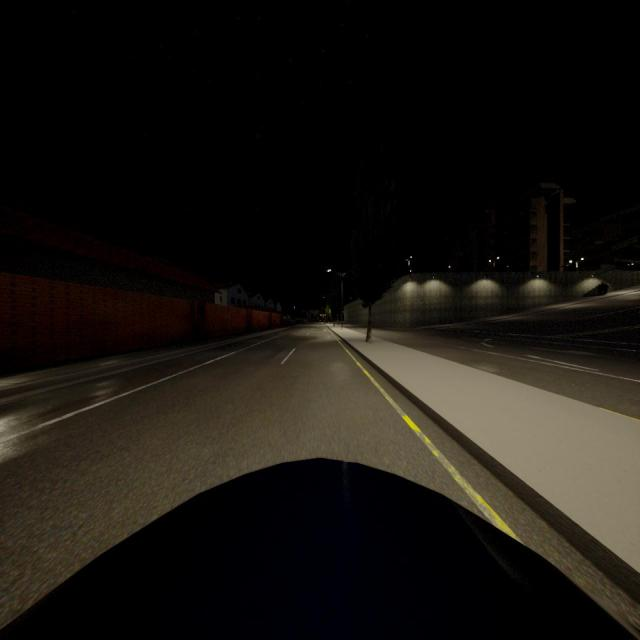Vehicle: (2, 457, 639, 640)
